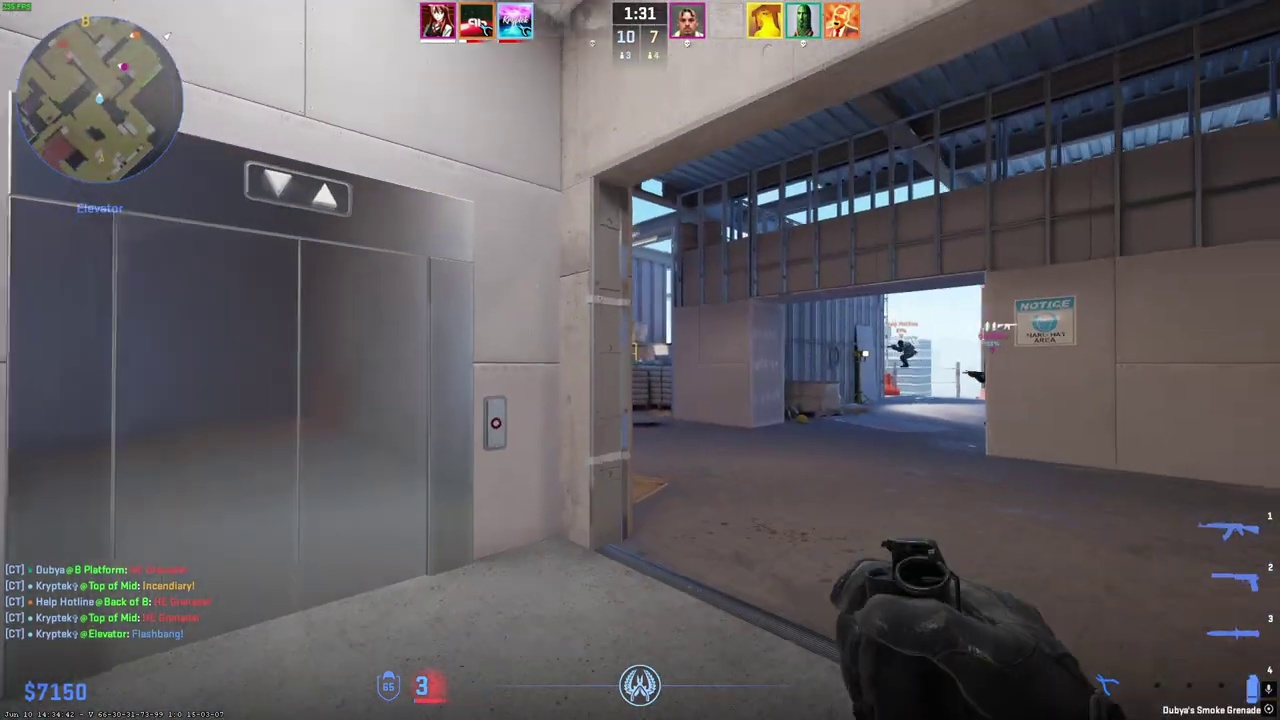CT: (895, 340, 913, 367)
